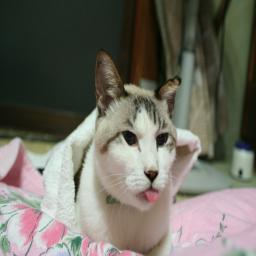catnose: (142, 163, 160, 183)
